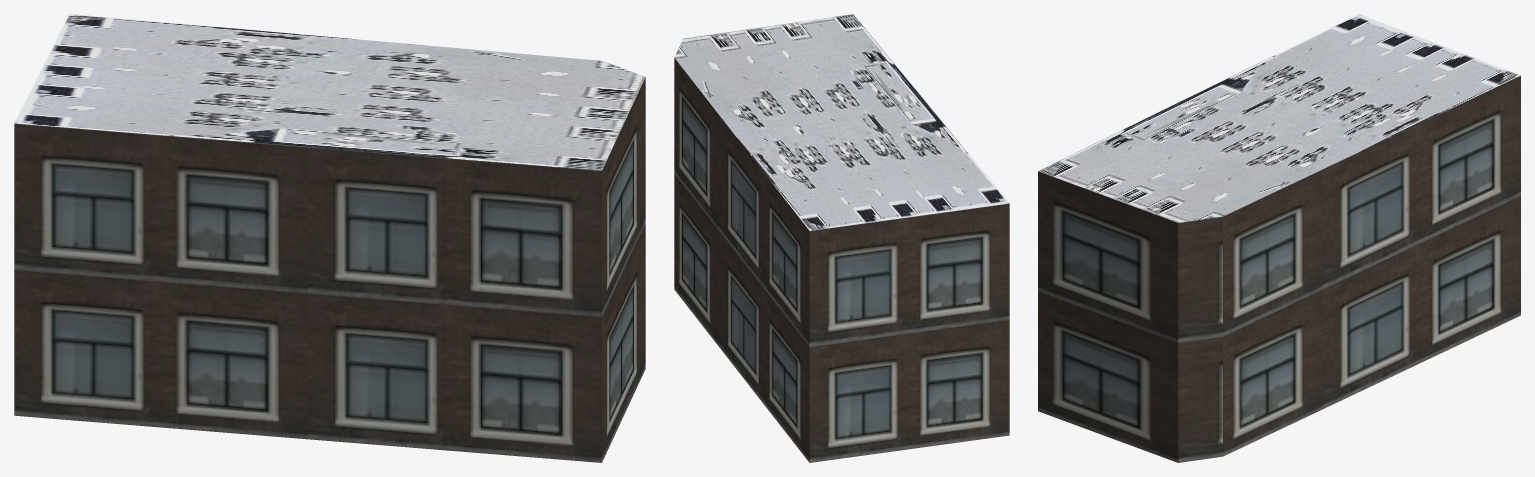
The model's file is ResTex__1345.fbx.
3 views of the same model, side by side, from view 1: azimuth 30°, elevation 25°; view 2: azimuth 150°, elevation 25°; view 3: azimuth 270°, elevation 25° (orthographic). The views are drawn at different scales.
Visible parts, largest first — view 1: CityEngineMaterial_16_m, CityEngineMaterial_15_m; view 2: CityEngineMaterial_16_m, CityEngineMaterial_15_m; view 3: CityEngineMaterial_16_m, CityEngineMaterial_15_m.
Boxes of the visible parts, x1=… form: CityEngineMaterial_16_m: x1=14, y1=77, x2=645, y2=462; CityEngineMaterial_15_m: x1=14, y1=14, x2=645, y2=170; CityEngineMaterial_16_m: x1=674, y1=58, x2=1009, y2=462; CityEngineMaterial_15_m: x1=674, y1=14, x2=1009, y2=230; CityEngineMaterial_16_m: x1=1038, y1=75, x2=1520, y2=462; CityEngineMaterial_15_m: x1=1038, y1=14, x2=1520, y2=222.
Size of the model in its own units: 11.2 by 6 by 10.94.
2 materials, 2 textured.
